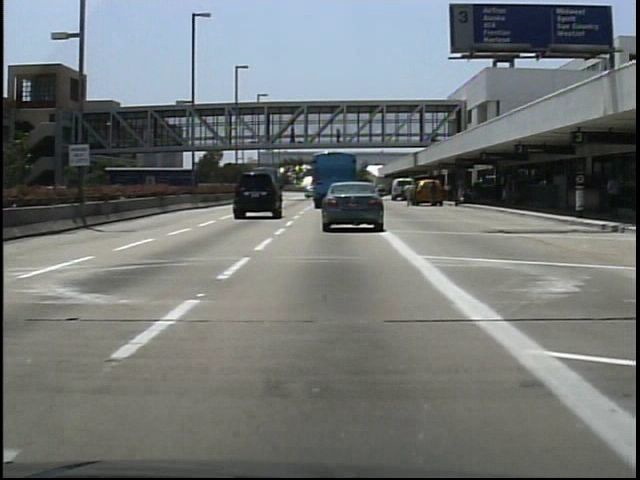person: (605, 170, 625, 218), (428, 177, 445, 211), (399, 179, 418, 209), (333, 126, 347, 152), (287, 123, 301, 144)
